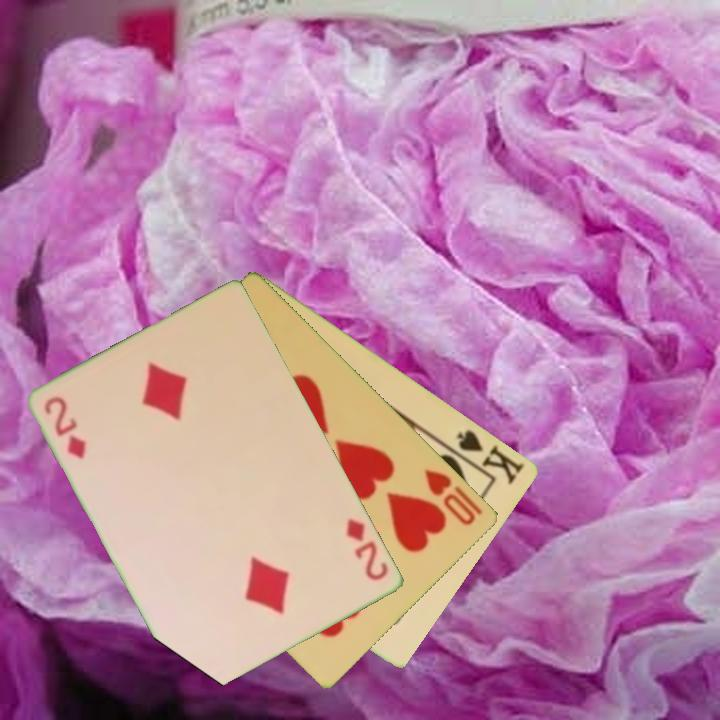10h: (421, 465, 486, 528)
2d: (41, 392, 90, 462), (343, 515, 392, 584)
Ks: (445, 425, 528, 488)
